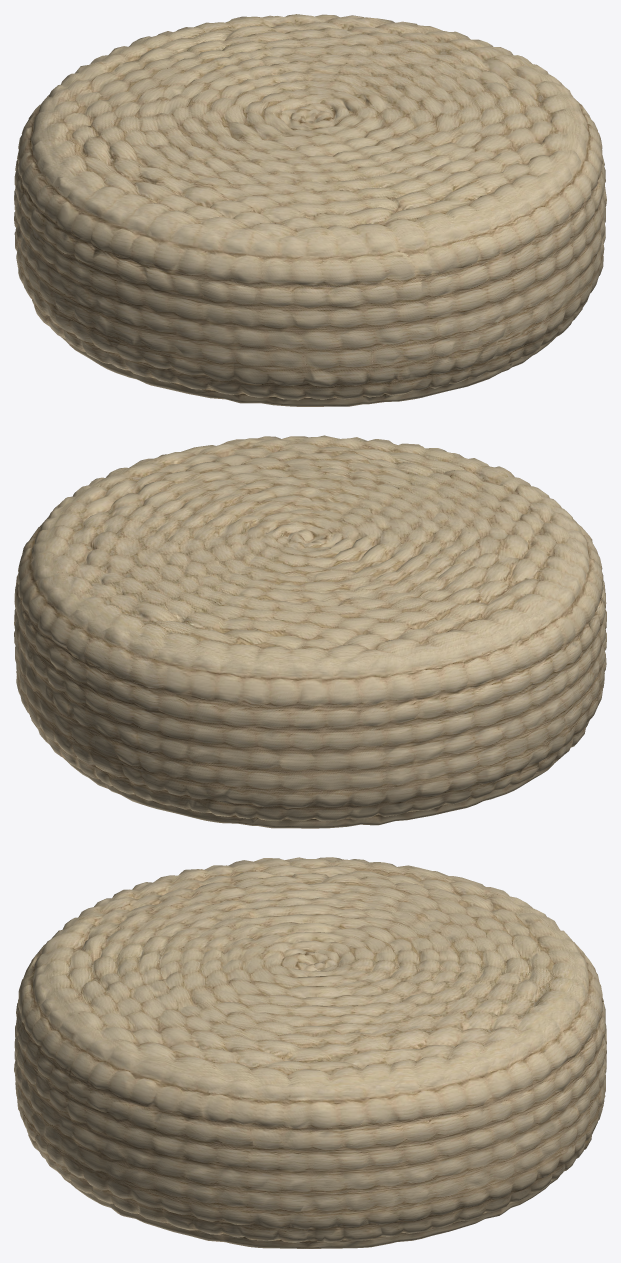
Rendered from Seat Cushion.fbx.
3 renders of one model, top to bottom at view 1: azimuth 30°, elevation 25°; view 2: azimuth 150°, elevation 25°; view 3: azimuth 270°, elevation 25°, orthographic.
Visible parts, largest first — view 1: tripo_node_e77d476a; view 2: tripo_node_e77d476a; view 3: tripo_node_e77d476a.
Boxes of the visible parts, <box> form: tripo_node_e77d476a: <box>14,14,606,406</box>; tripo_node_e77d476a: <box>14,435,606,828</box>; tripo_node_e77d476a: <box>14,857,606,1248</box>.
Bounding box in the file's own units: 100 × 34.83 × 100.
